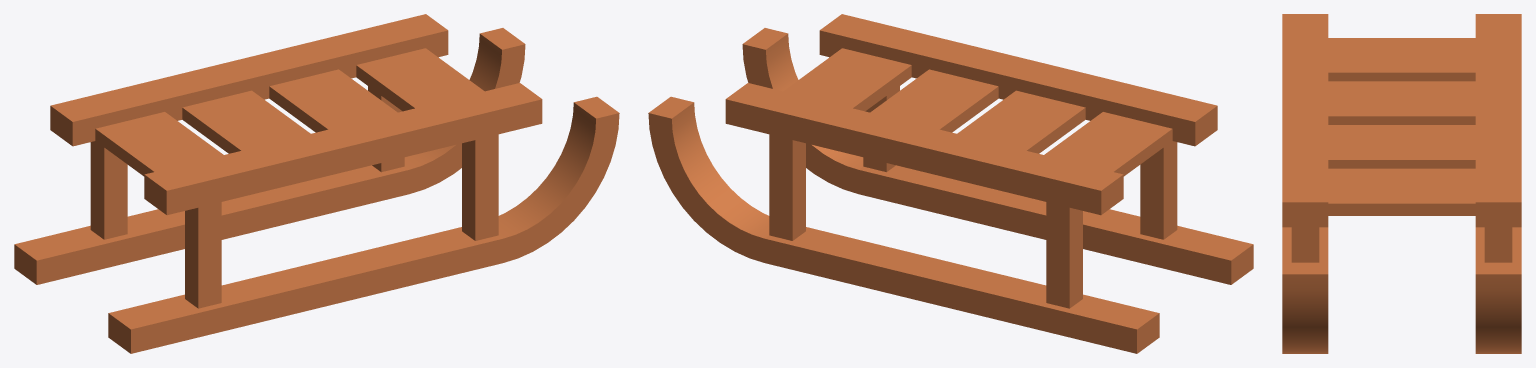
File: sled.fbx
3 views of the same model, side by side, from view 1: azimuth 30°, elevation 25°; view 2: azimuth 150°, elevation 25°; view 3: azimuth 270°, elevation 25° (orthographic). The views are drawn at different scales.
Parts seen in each view (by area): view 1: sled; view 2: sled; view 3: sled.
Part boxes in pixels (x1,y1,x2,y2): sled: (14,14,619,353); sled: (648,14,1253,353); sled: (1282,14,1521,353).
Bounding box in the file's own units: 6.3 × 1.9 × 2.6.
